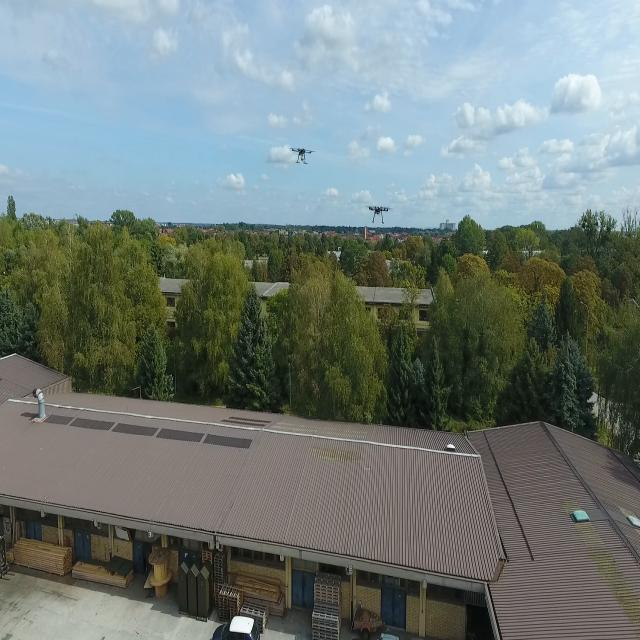UAV: (360, 203, 394, 225), (287, 144, 318, 166)
